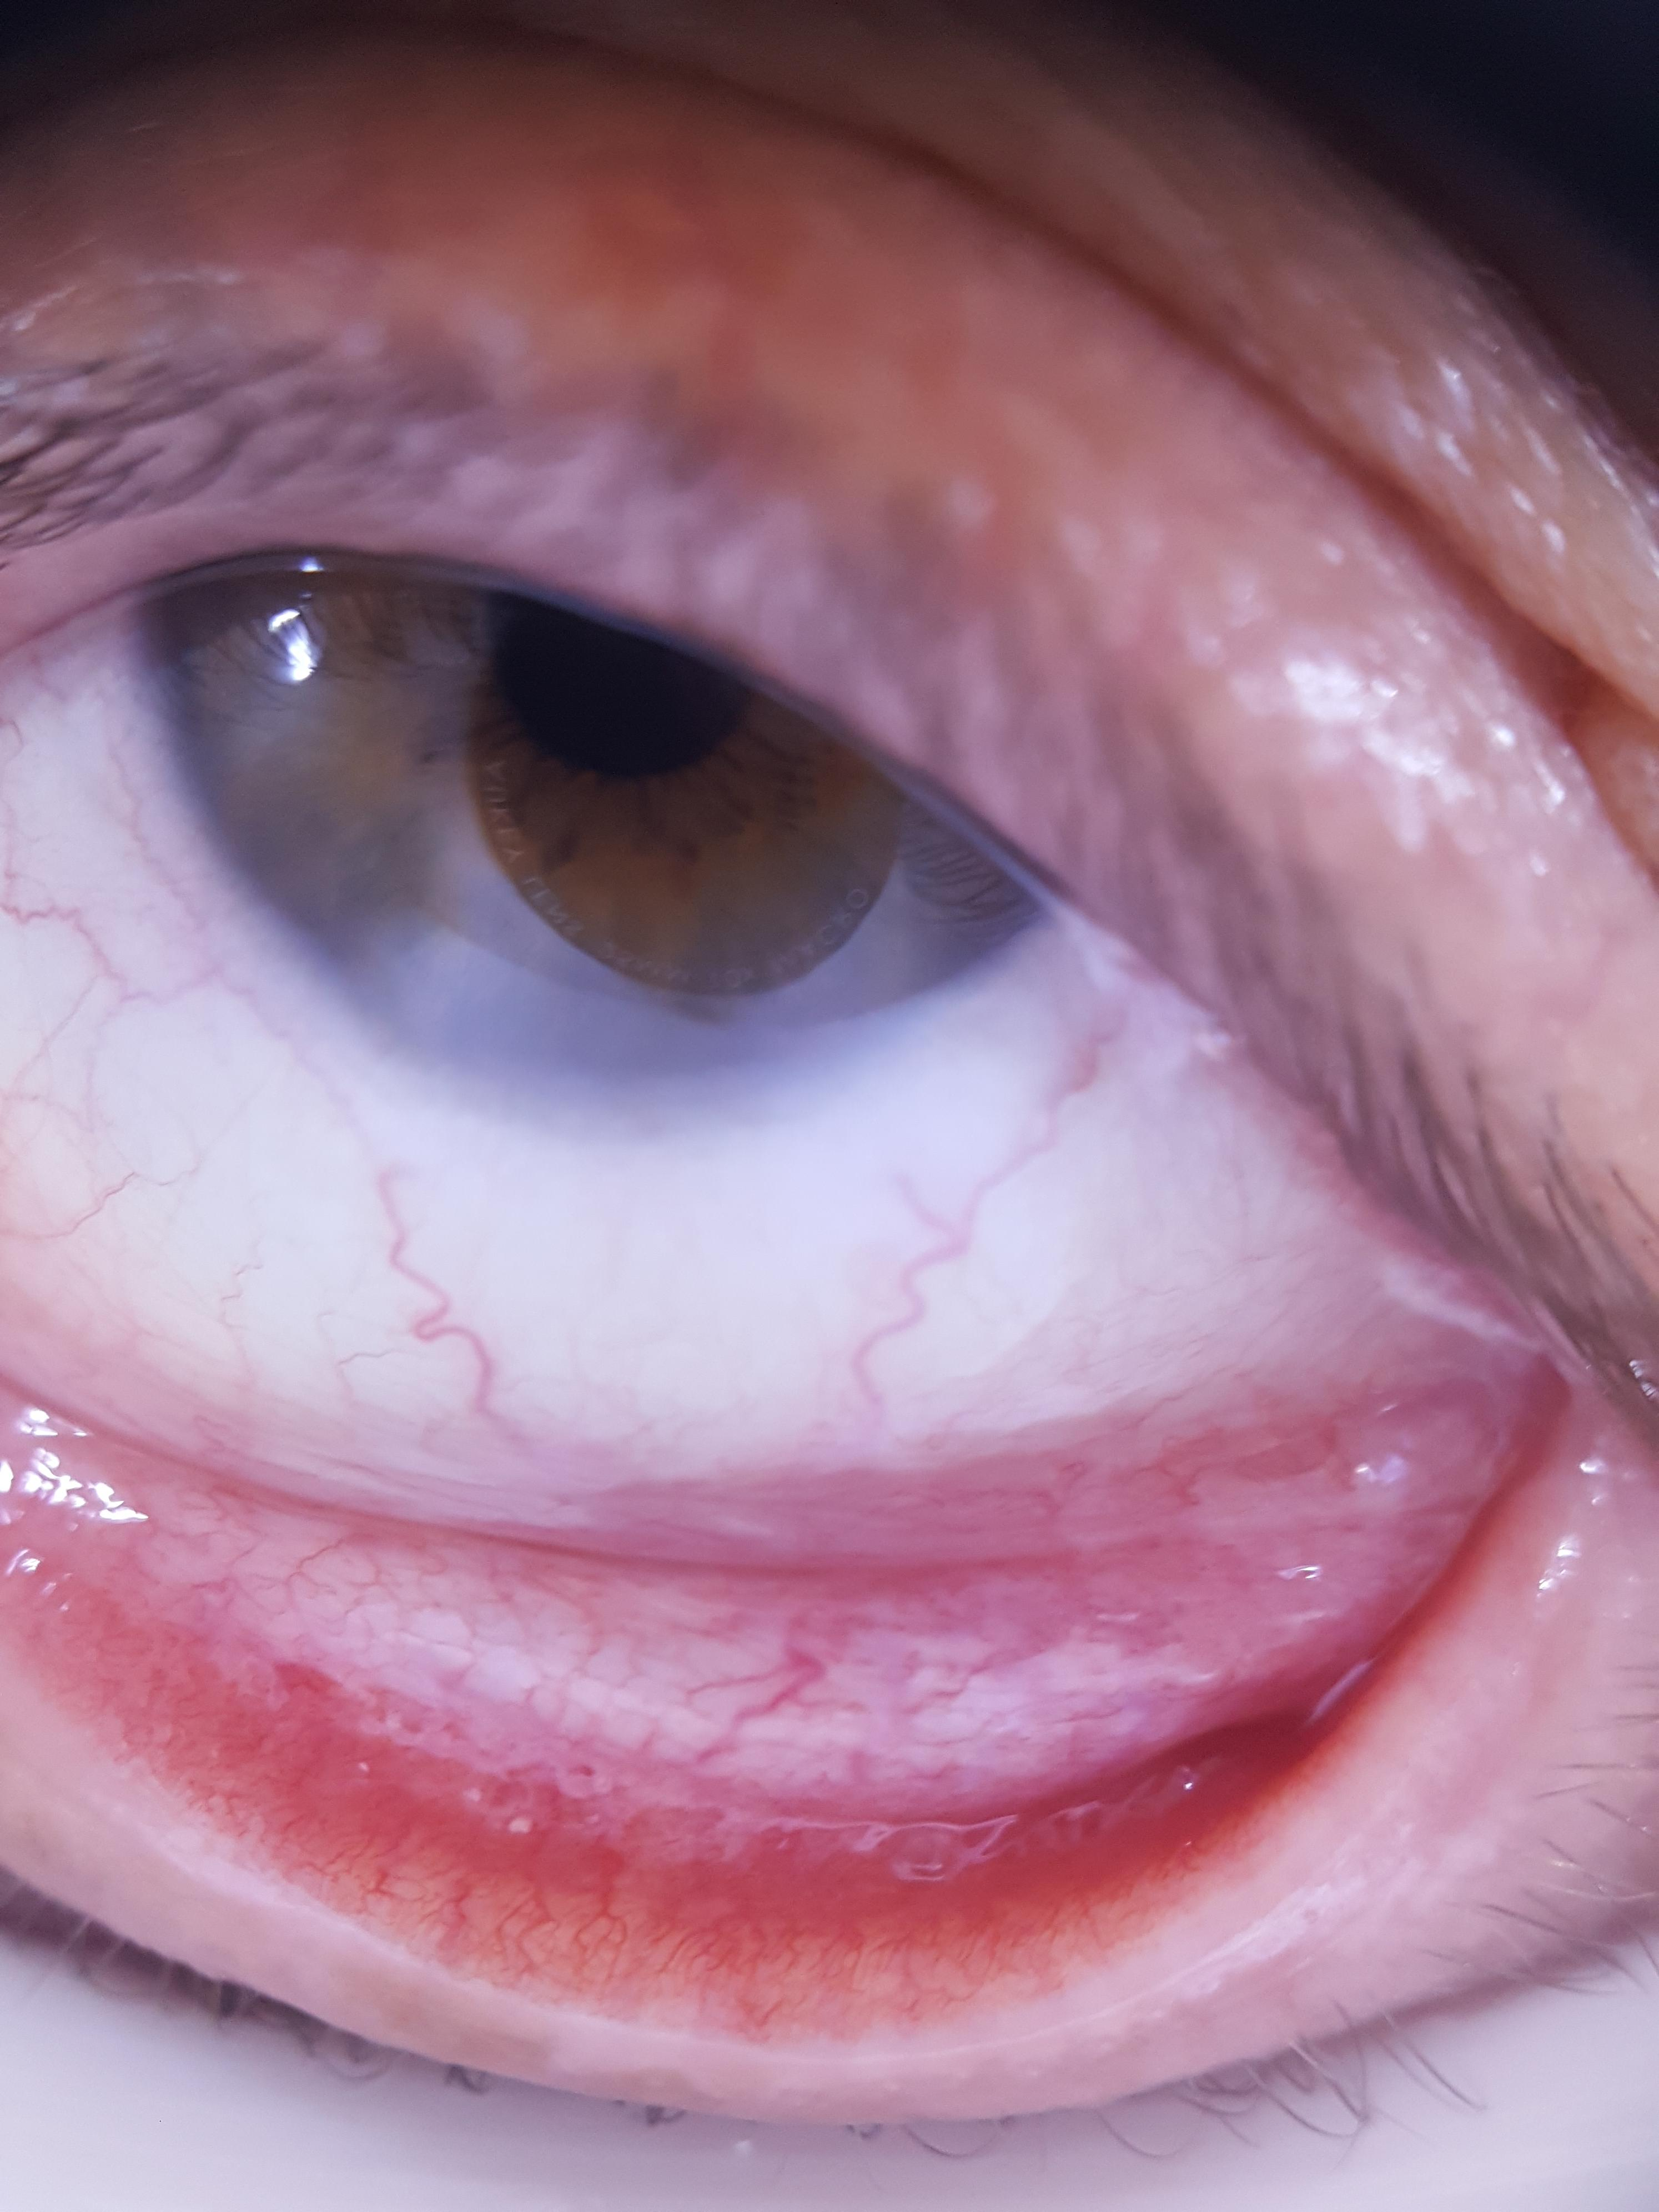forniceal: (3, 1379, 1497, 1841)
forniceal_palpebral: (3, 1374, 1553, 2034)
palpebral: (3, 1440, 1540, 2019)
